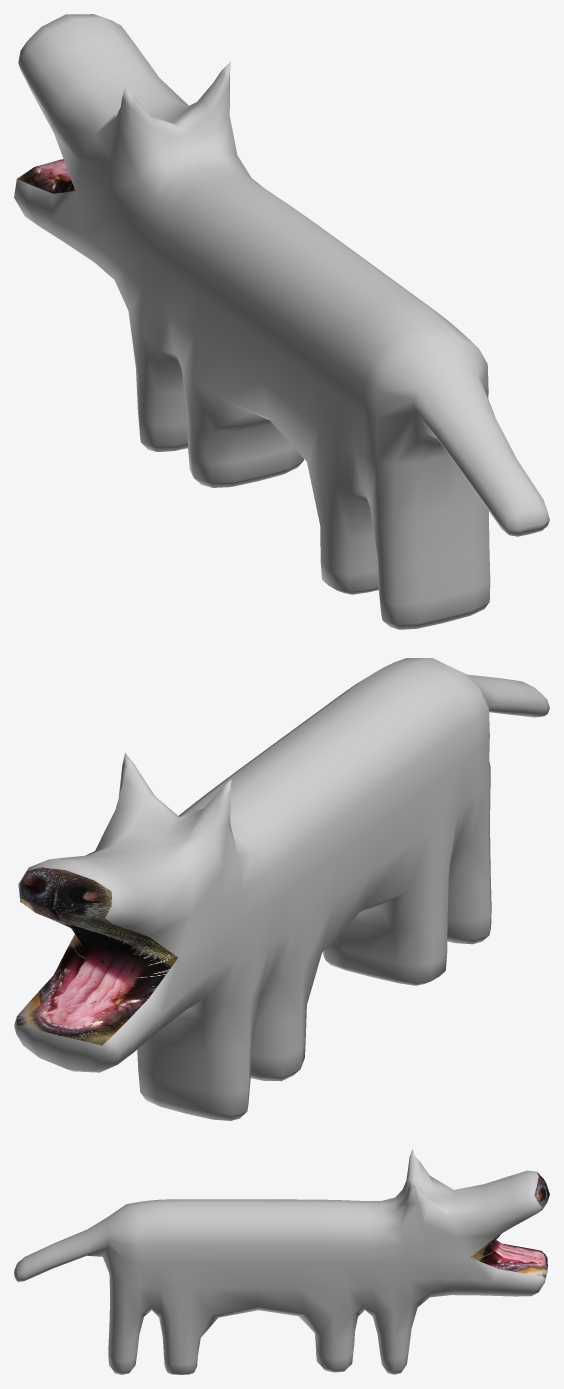
File: SM_Doge00.fbx
3 views of the same model, one above another, from view 1: azimuth 30°, elevation 25°; view 2: azimuth 150°, elevation 25°; view 3: azimuth 270°, elevation 25° (orthographic). The views are drawn at different scales.
Parts seen in each view (by area): view 1: SM_Doge00; view 2: SM_Doge00; view 3: SM_Doge00.
Part boxes in pixels (box(x1,y1,x2,y2)): SM_Doge00: box(14, 14, 549, 629); SM_Doge00: box(14, 658, 549, 1120); SM_Doge00: box(14, 1149, 549, 1374).
Bounding box in the file's own units: 34.7 × 105 × 253.
